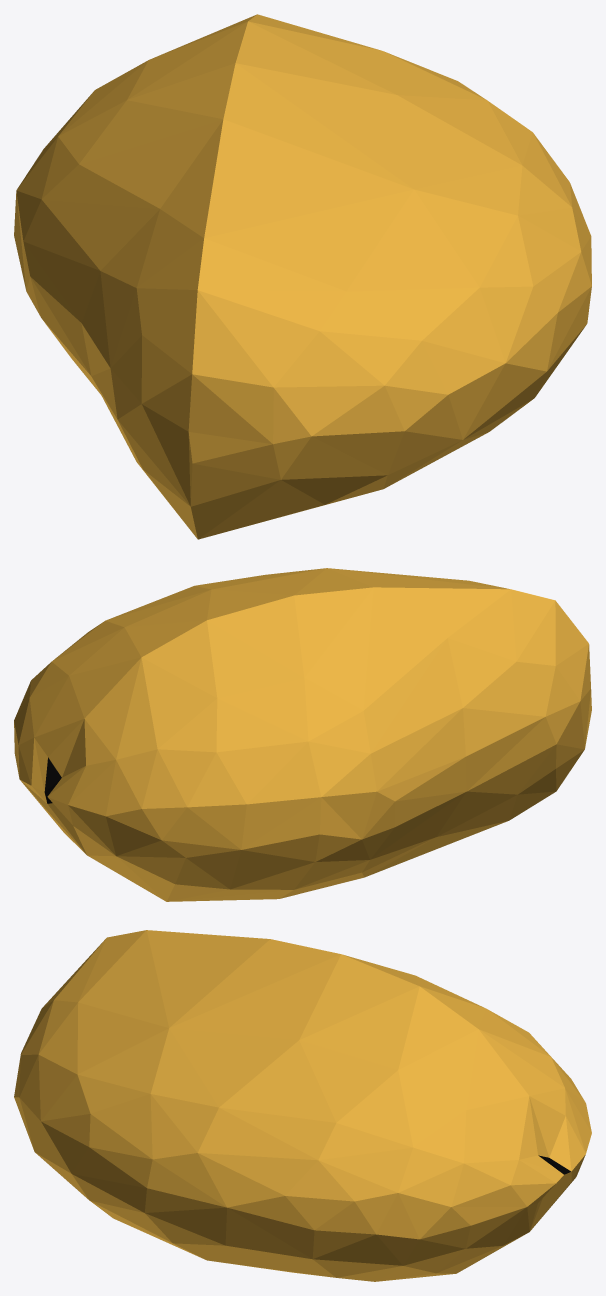
3 renders of one model, top to bottom at view 1: azimuth 30°, elevation 25°; view 2: azimuth 150°, elevation 25°; view 3: azimuth 270°, elevation 25°, orthographic. The views are drawn at different scales.
Parts seen in each view (by area): view 1: 零件2; view 2: 零件2; view 3: 零件2.
Boxes of the visible parts, left/top/right/bottom form: 零件2: left=14, top=14, right=591, bottom=539; 零件2: left=14, top=568, right=591, bottom=901; 零件2: left=14, top=930, right=591, bottom=1281.
Bounding box in the file's own units: 3898 × 2664 × 4591.
